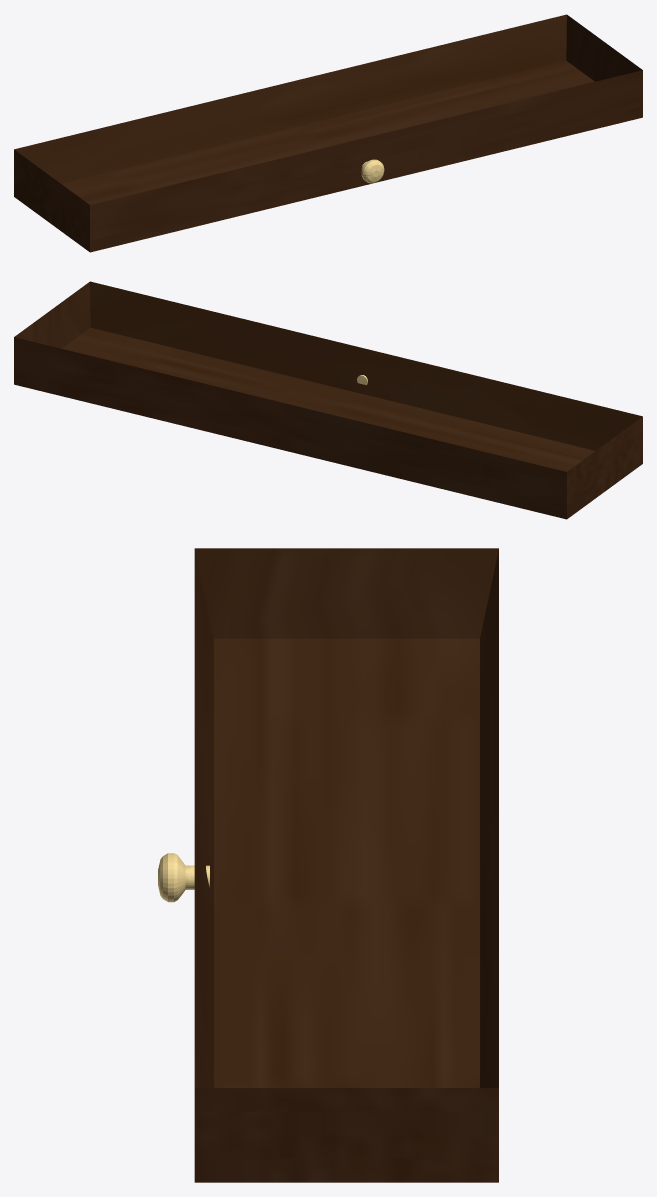
Rendered from drawer.fbx.
The picture shows the model from 3 angles, top to bottom: view 1: azimuth 30°, elevation 25°; view 2: azimuth 150°, elevation 25°; view 3: azimuth 270°, elevation 25°; orthographic projection. The views are drawn at different scales.
Parts seen in each view (by area): view 1: Cube.001, Cube.002; view 2: Cube.001; view 3: Cube.001, Cube.002.
Part boxes in pixels (x1,y1,x2,y2): Cube.001: [14, 14, 642, 252]; Cube.002: [361, 159, 384, 183]; Cube.001: [14, 281, 642, 519]; Cube.001: [194, 548, 498, 1182]; Cube.002: [158, 853, 209, 902].
Bounding box in the file's own units: 113 × 9.24 × 30.12.
2 materials, 2 textured.
